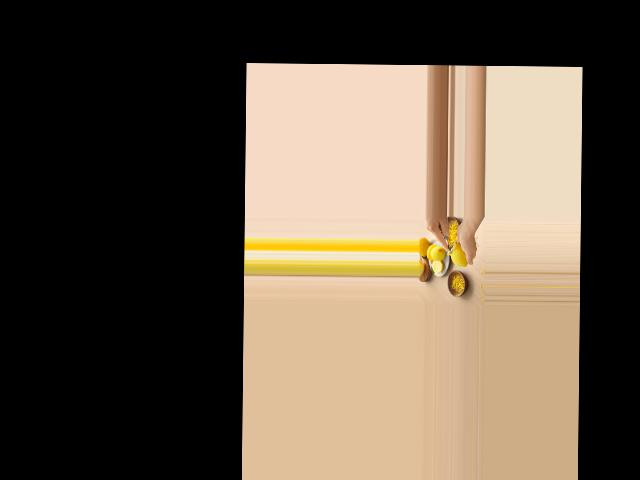lemon: (449, 241, 471, 266)
